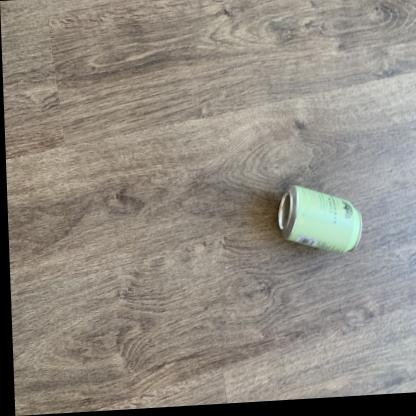trash: (278, 185, 361, 252)
